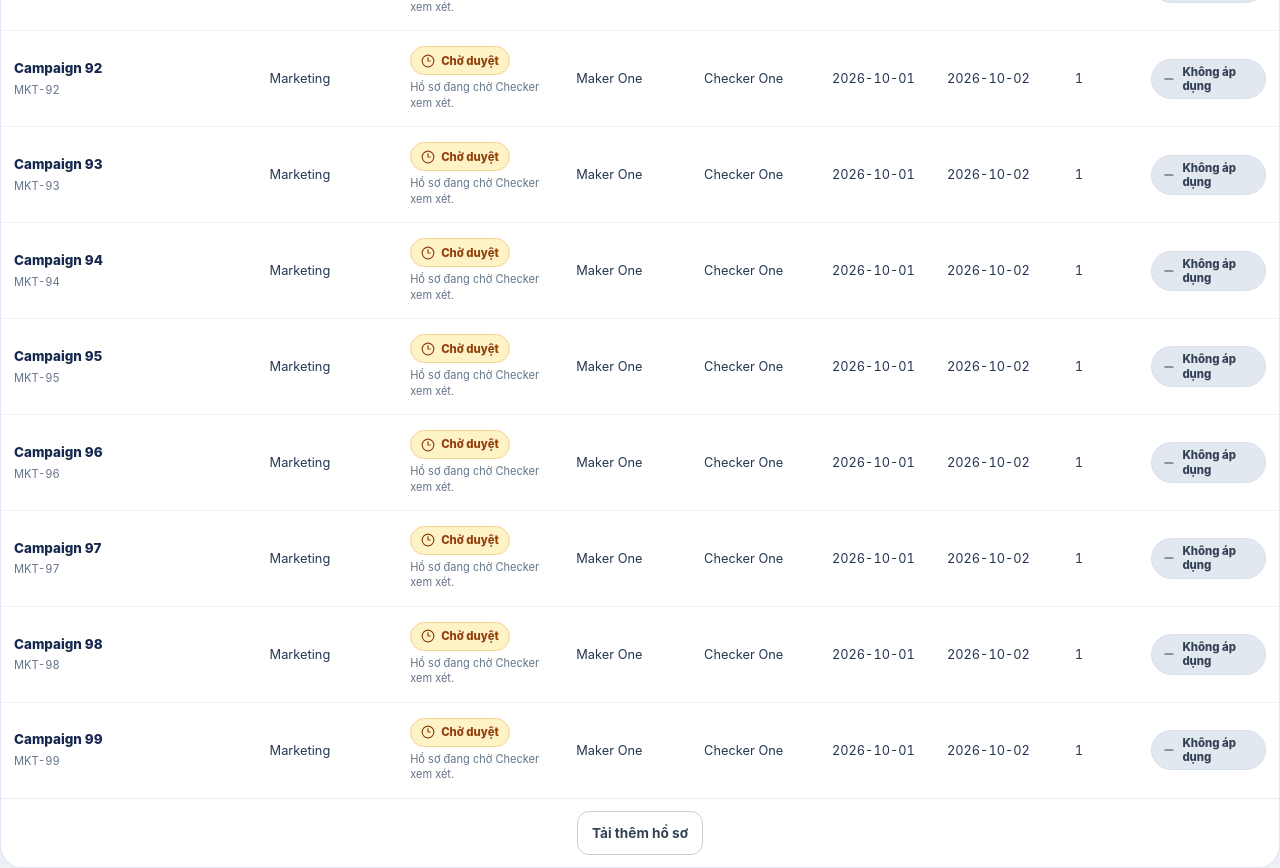
Test: keeps already loaded reviews when a later page fails and permits an explicit retry
(page scrolled)
Click the button "Tải thêm hồ sơ": (640, 833) [577,811,703,855]
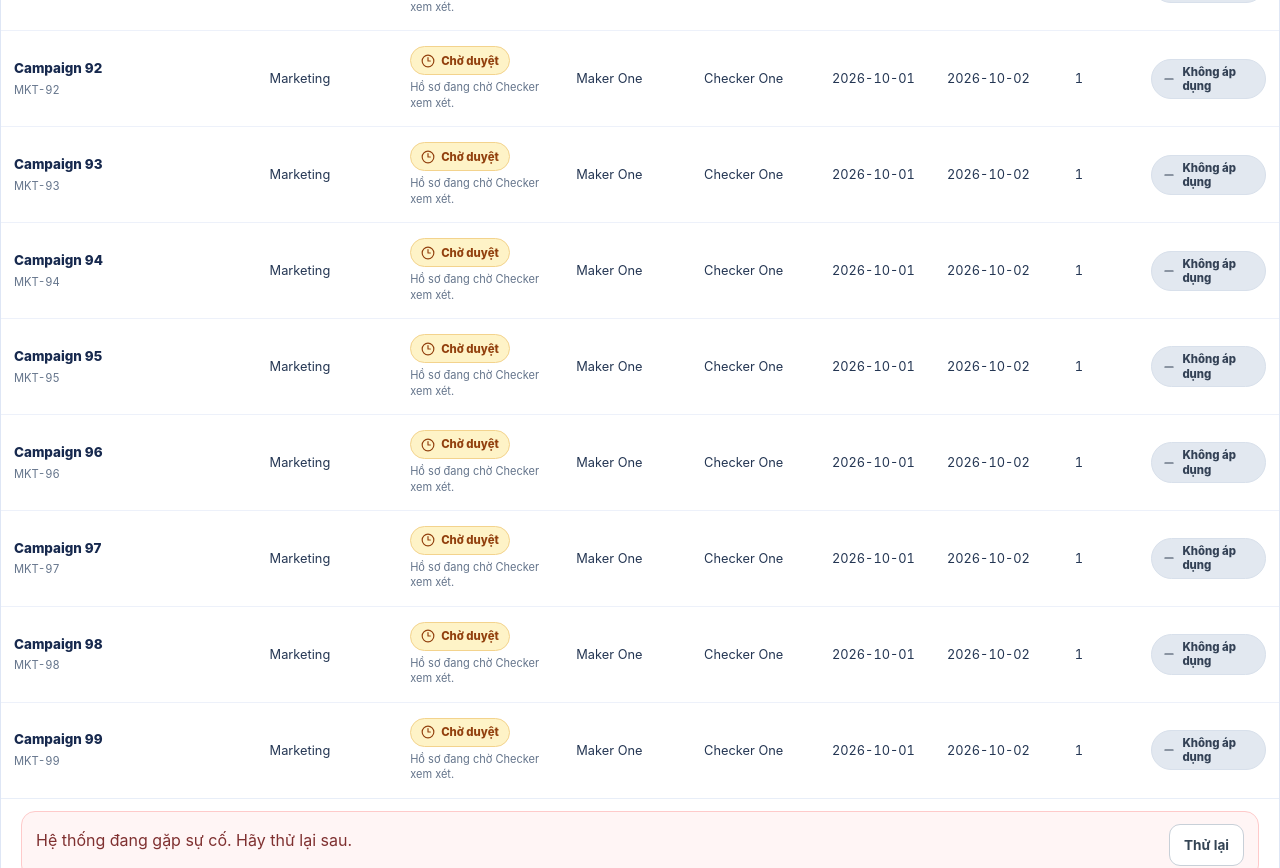
Expected: the link with aria-label "Campaign 99 (MKT-99)" is shown, [14,731,103,768]
Expected: the message shows "Hệ thống đang gặp sự cố", [36,830,352,850]
Click the button "Thử lại": (1206, 845) [1169,824,1244,866]
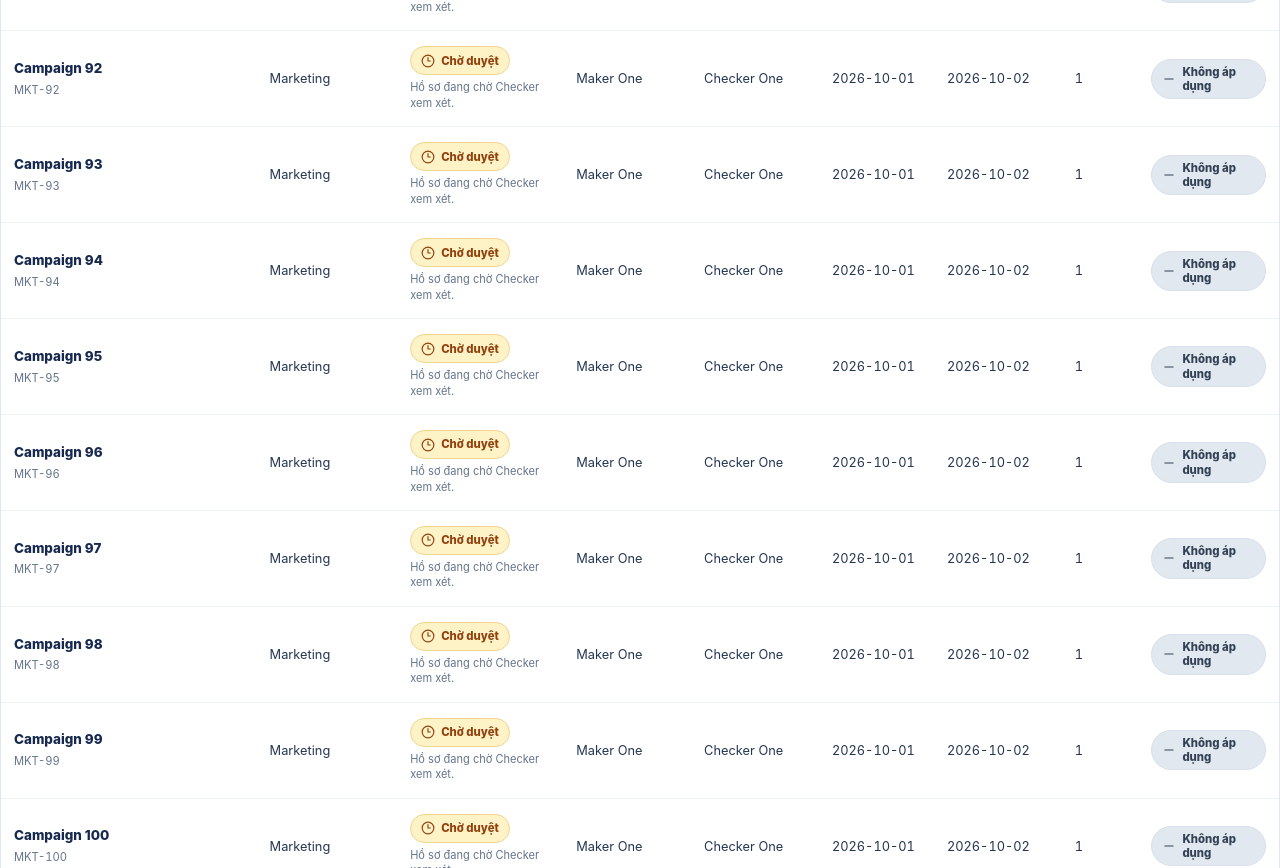
Expected: the link with aria-label "Campaign 100 (MKT-100)" is shown, [14,827,109,864]
